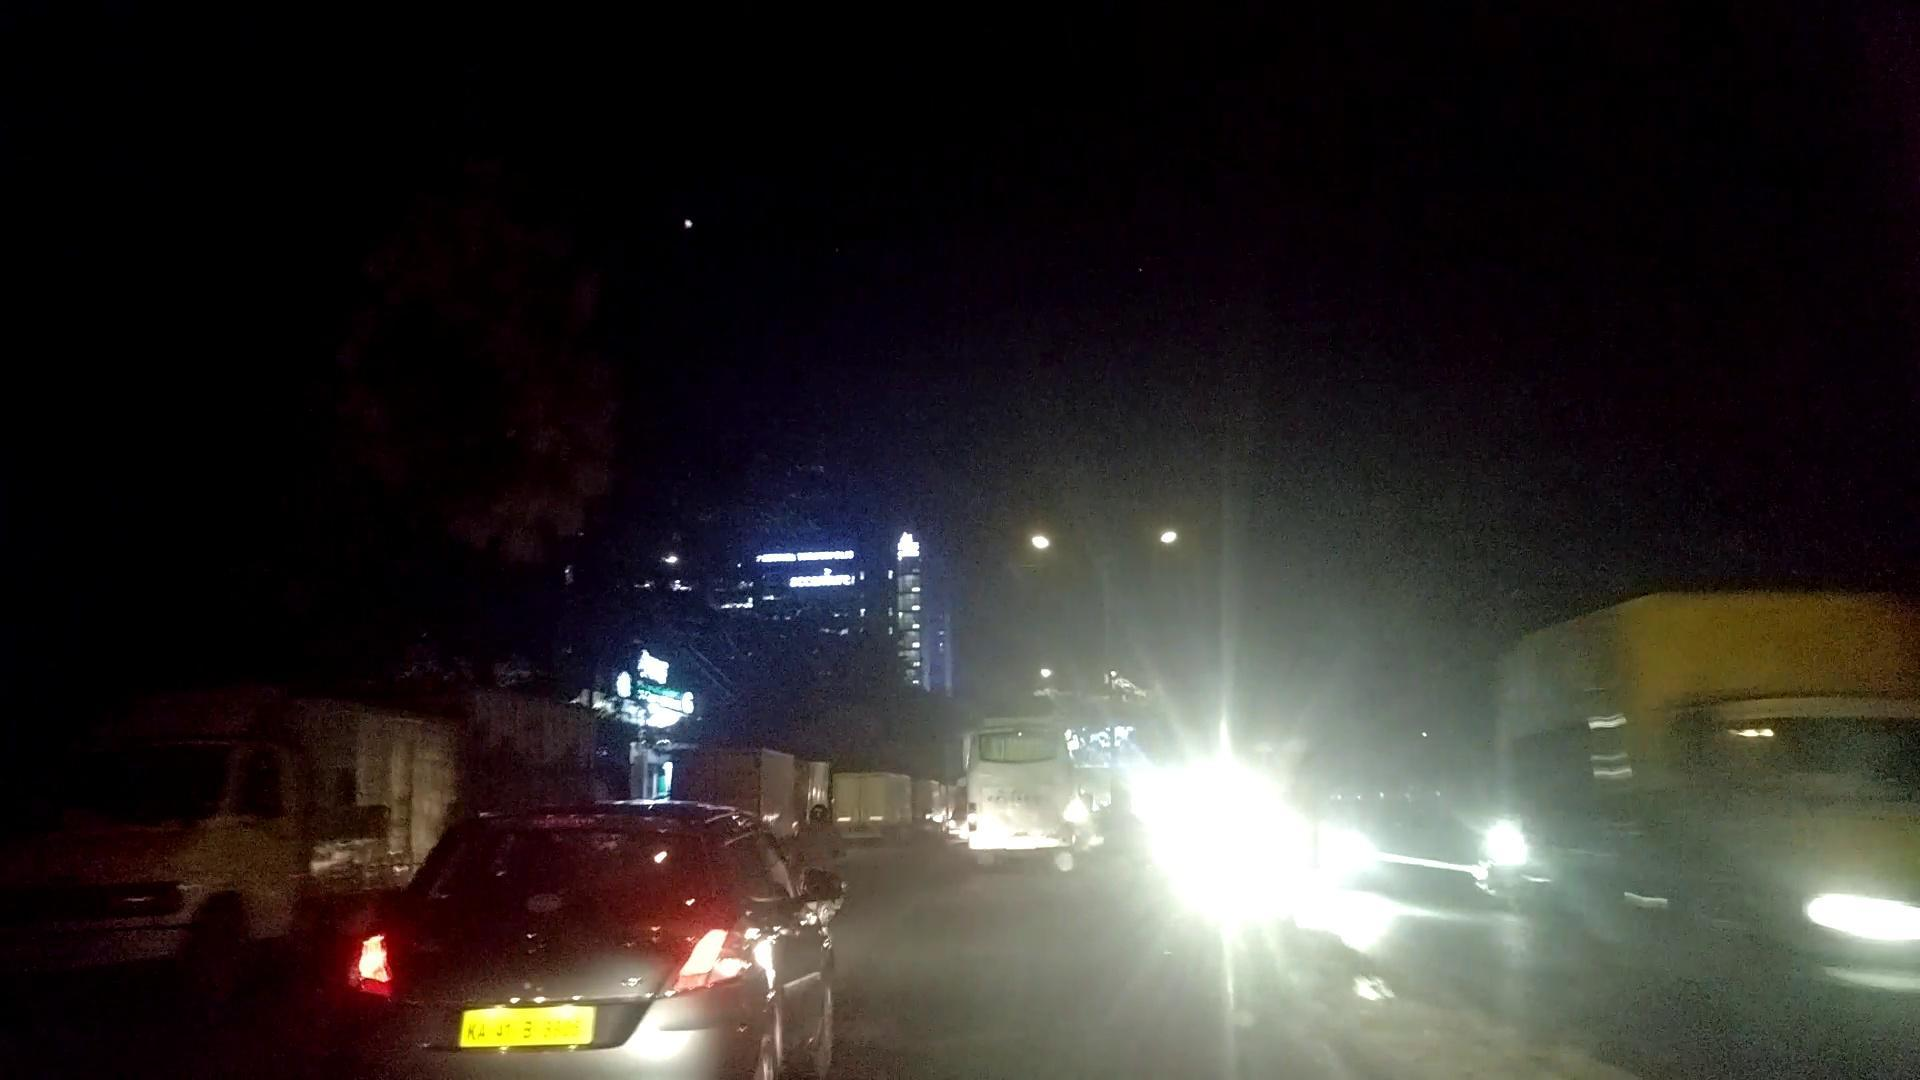on: (930, 411, 1327, 611)
